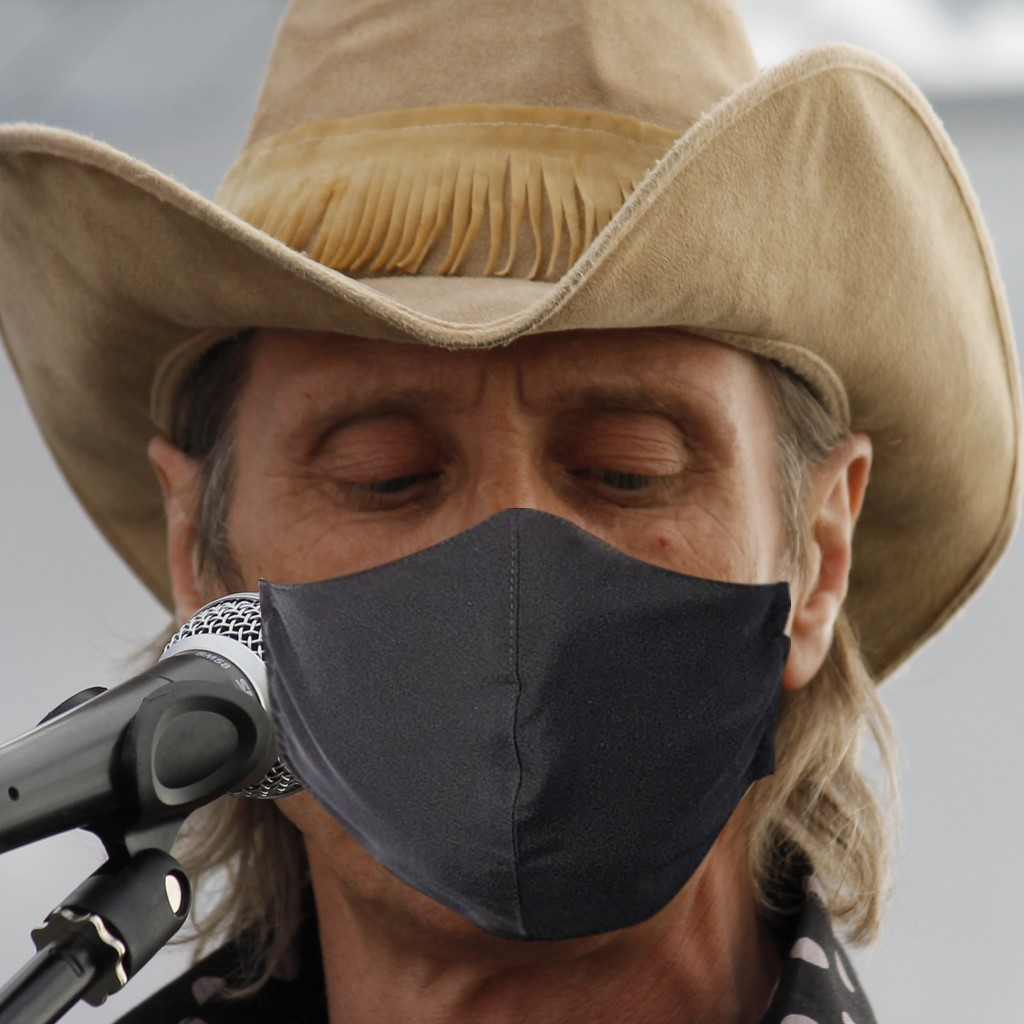con_mascara: (173, 262, 860, 940)
